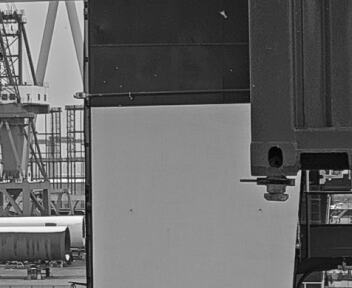twist_lock_1: (248, 169, 298, 210)
